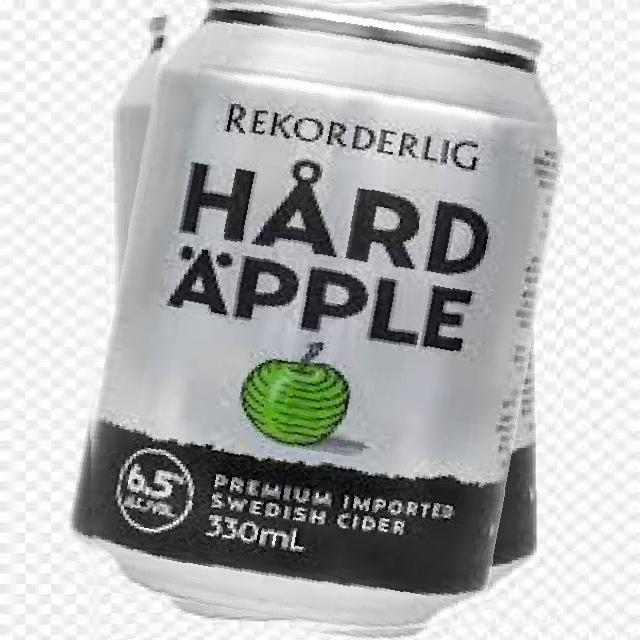recyclable: (84, 0, 557, 640)
